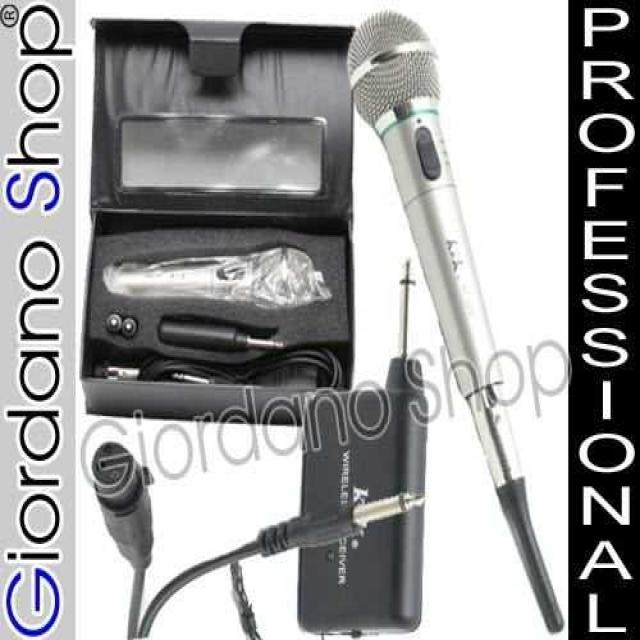microphone: (348, 0, 525, 480), (88, 438, 160, 518), (87, 448, 89, 473)
